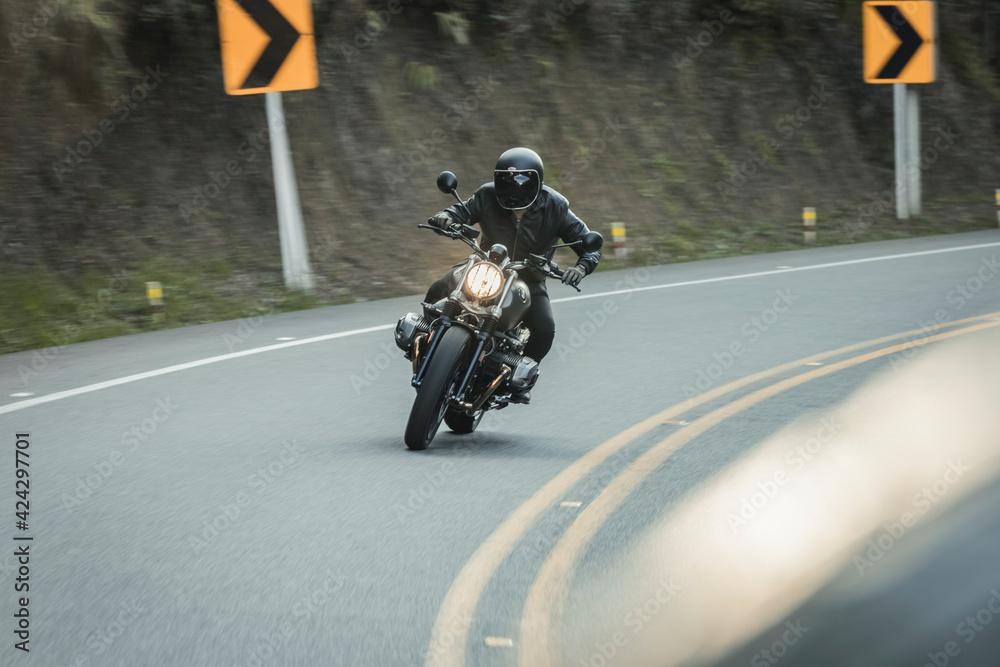helmet: (493, 146, 545, 212)
